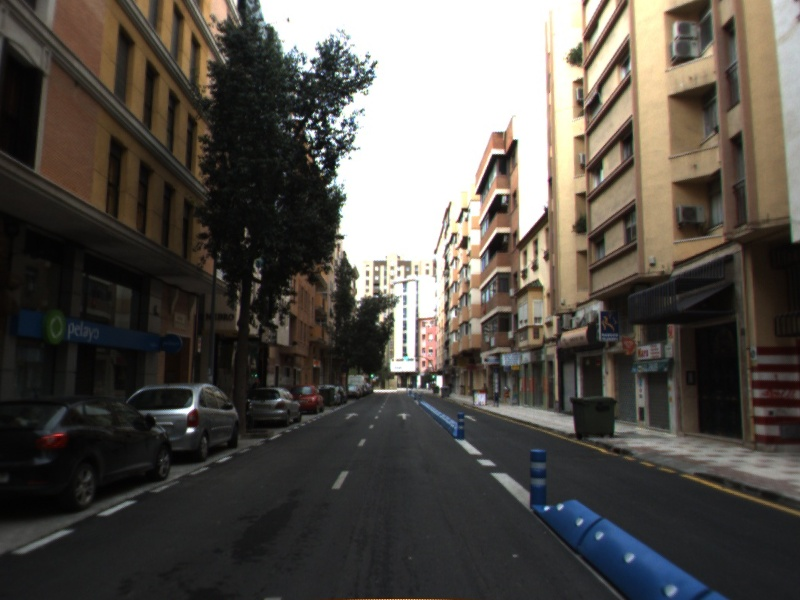STRAIGHT: (394, 411, 414, 422), (342, 410, 361, 421)
